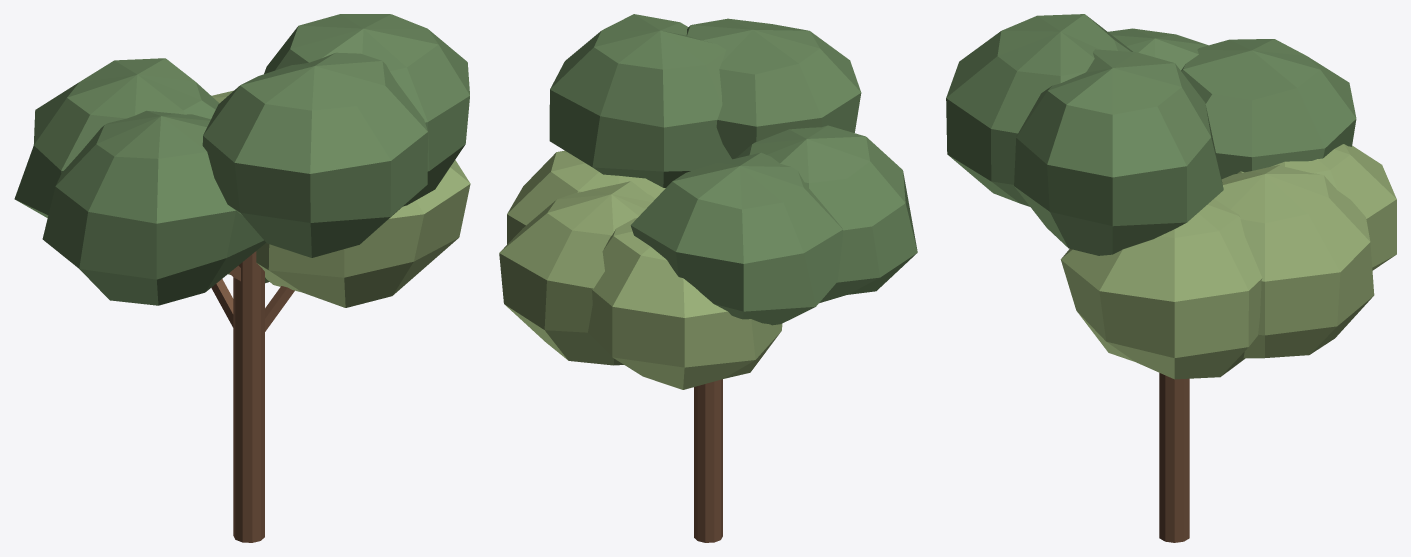
File: SM_CourtyardTree.glb
3 renders of one model, left to right at view 1: azimuth 30°, elevation 25°; view 2: azimuth 150°, elevation 25°; view 3: azimuth 270°, elevation 25°, orthographic. The views are drawn at different scales.
Parts seen in each view (by area): view 1: SM_CourtyardTree; view 2: SM_CourtyardTree; view 3: SM_CourtyardTree.
Part boxes in pixels (x1=…): SM_CourtyardTree: x1=14, y1=14, x2=470, y2=542; SM_CourtyardTree: x1=499, y1=14, x2=917, y2=542; SM_CourtyardTree: x1=946, y1=14, x2=1396, y2=542.
Size of the model in its own units: 3.39 by 4.07 by 3.27.
